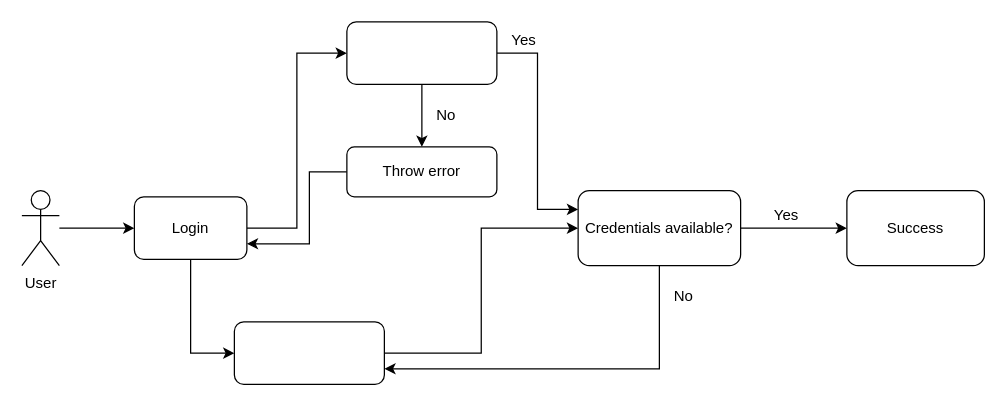
The diagram is 1006 pixels wide and 406 high, and some of its shapes have lost their labels. Here are the shapes that lost their labels. From the top down, the centre of each, then its label:
At (421,52): "Check if registered".
At (308,352): "Register".
